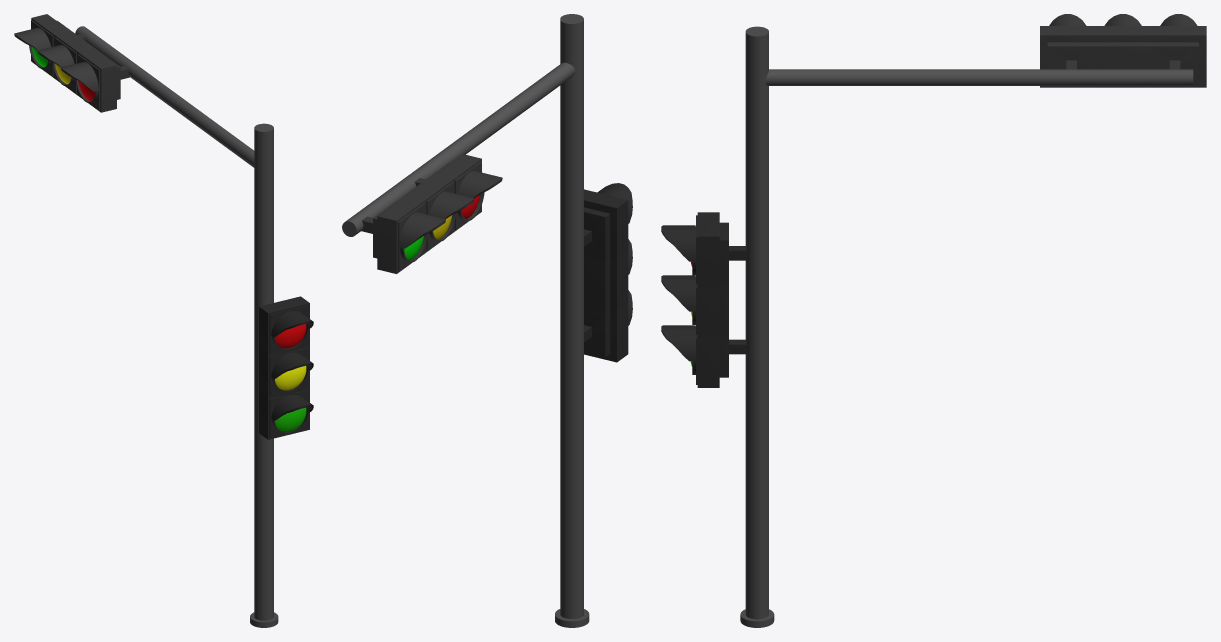
The model's file is Traffic Lights.fbx.
3 views of the same model, side by side, from view 1: azimuth 30°, elevation 25°; view 2: azimuth 150°, elevation 25°; view 3: azimuth 270°, elevation 25° (orthographic). The views are drawn at different scales.
Visible parts, largest first — view 1: Stand, Light Body, Light Body.001, Top Stand, Green, Yellow, Red; view 2: Stand, Light Body, Light Body.001, Top Stand; view 3: Stand, Light Body, Light Body.001, Top Stand.
Boxes of the visible parts, x1,y1,x2,y2 form: Stand: (250, 123, 278, 627); Light Body: (259, 296, 313, 439); Light Body.001: (14, 14, 129, 112); Top Stand: (75, 26, 254, 167); Green: (275, 407, 306, 432); Yellow: (275, 366, 306, 390); Red: (275, 324, 306, 348); Stand: (555, 14, 589, 627); Light Body: (584, 183, 632, 362); Light Body.001: (361, 154, 502, 273); Top Stand: (342, 62, 575, 236); Stand: (740, 26, 774, 627); Light Body: (661, 212, 746, 387); Light Body.001: (1040, 14, 1206, 87); Top Stand: (765, 69, 1193, 85).
Bounding box in the file's own units: 126 × 649 × 544.
